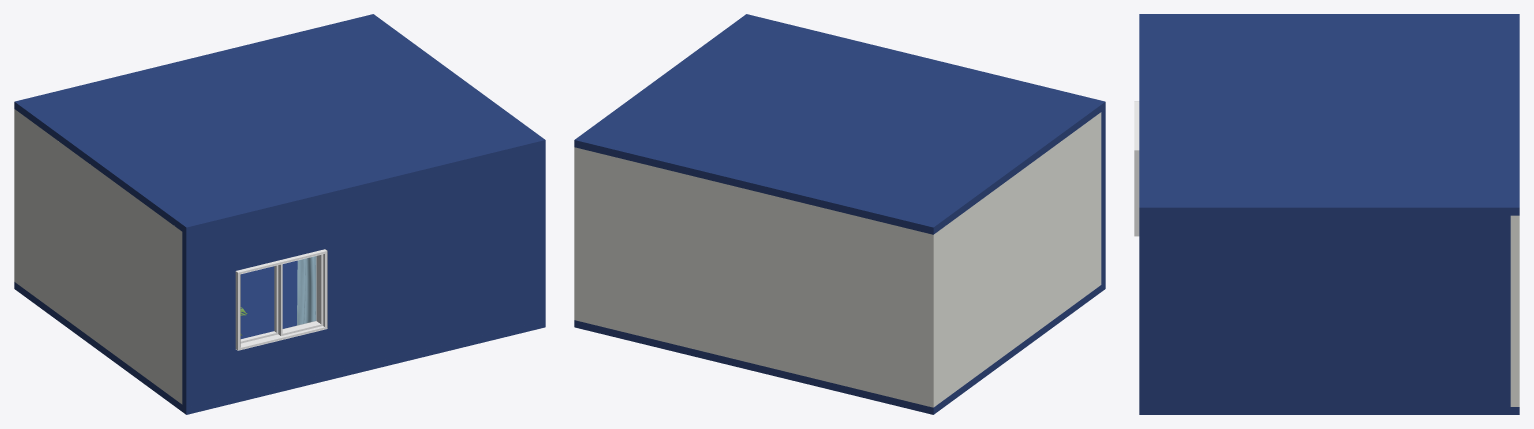
3 views of the same model, side by side, from view 1: azimuth 30°, elevation 25°; view 2: azimuth 150°, elevation 25°; view 3: azimuth 270°, elevation 25° (orthographic). The views are drawn at different scales.
Visible parts, largest first — view 1: Plane, Wall, Wall.001, Plane.001, WindowFrame, Curtain, WindowPane_R, Wall.002, WindowPane_L; view 2: Plane, Wall.002, Wall.001, Plane.001, Wall; view 3: Plane, Wall.003, Plane.001, Wall, Wall.002, WindowFrame.
Part boxes in pixels (x1,y1,x2,y2): Plane: (14,14,545,234); Wall: (182,147,545,407); Wall.001: (18,112,182,404); Plane.001: (14,260,545,414); WindowFrame: (235,249,327,350); Curtain: (297,256,316,325); WindowPane_R: (278,254,323,335); Wall.002: (14,109,18,284); WindowPane_L: (240,265,278,343); Plane: (574,14,1105,234); Wall.002: (574,147,937,407); Wall.001: (937,112,1101,404); Plane.001: (574,282,1105,414); Wall: (1101,109,1105,284); Plane: (1139,14,1519,215); Wall.003: (1148,215,1510,406); Plane.001: (1139,407,1519,414); Wall: (1139,215,1148,406); Wall.002: (1510,215,1519,406); WindowFrame: (1134,101,1139,236).
Size of the model in its own units: 10 by 4.99 by 8.41.
